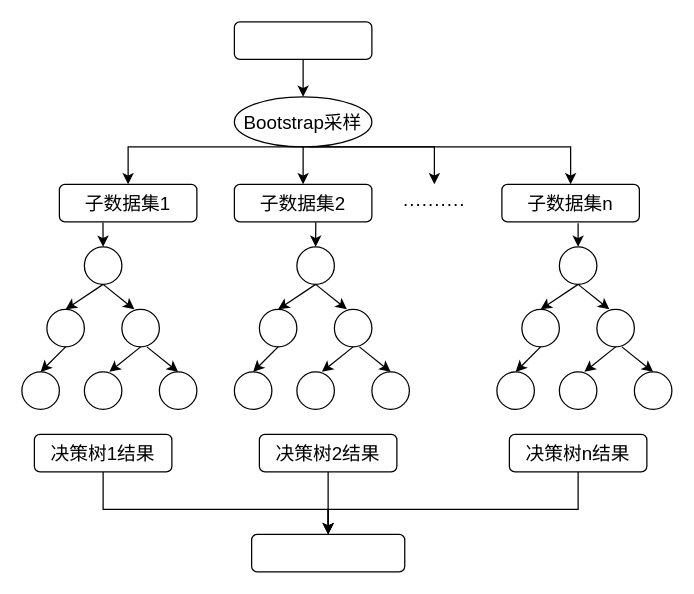
Image size: 694x594. Some labels were removed from this diagram. The shapes that lost their labels are listed below. From the top down, each one's centre as x and y in pixels, then its label:
pixel 302 40: 训练数据集
pixel 327 552: 随机森林输出结果
